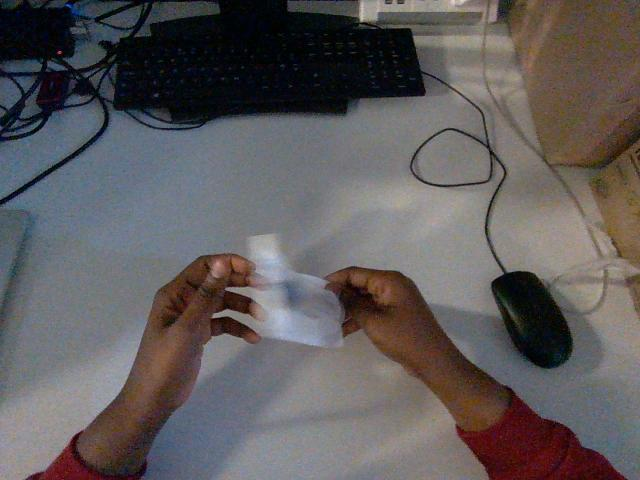syringe: (248, 235, 343, 347)
